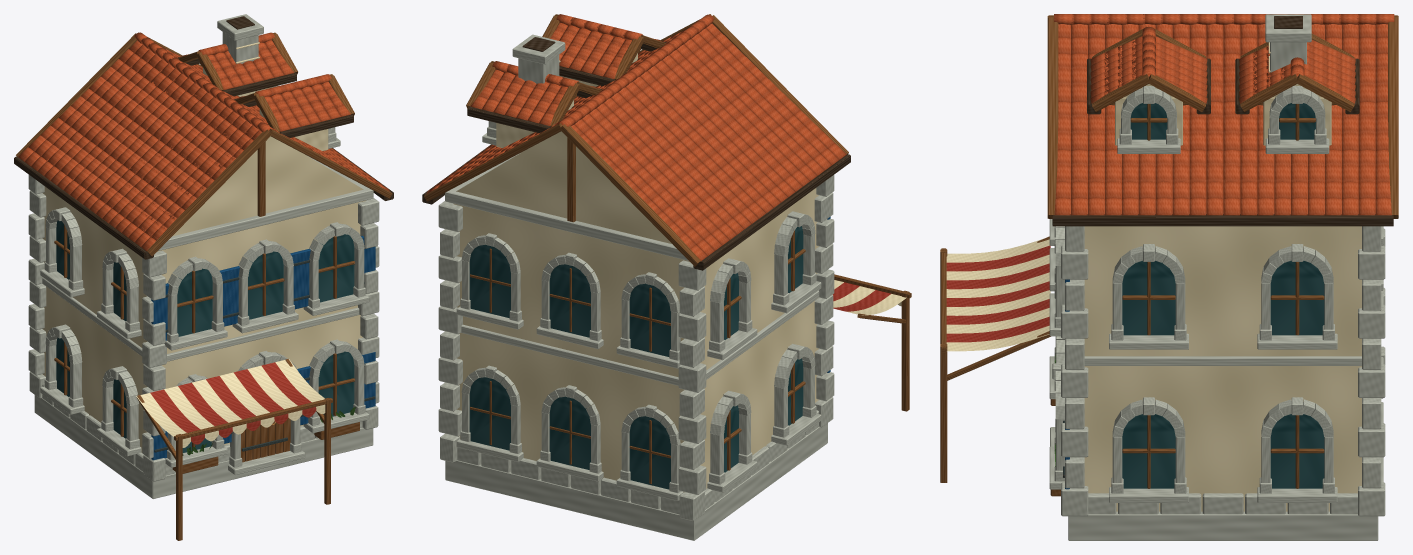
File: market_shop.glb
The picture shows the model from 3 angles, left to right: view 1: azimuth 30°, elevation 25°; view 2: azimuth 150°, elevation 25°; view 3: azimuth 270°, elevation 25°; orthographic projection. The views are drawn at different scales.
Parts seen in each view (by area): view 1: market_shop_Structure.001, market_shop_Roof.001, market_shop_Detail.001, market_shop_Joinery.001, market_shop_Glazing.001, market_shop_Cloth.001, market_shop_Metalwork.001; view 2: market_shop_Structure.001, market_shop_Roof.001, market_shop_Detail.001, market_shop_Glazing.001, market_shop_Joinery.001, market_shop_Cloth.001; view 3: market_shop_Structure.001, market_shop_Roof.001, market_shop_Detail.001, market_shop_Joinery.001, market_shop_Glazing.001, market_shop_Cloth.001.
Boxes of the visible parts, <box> form: market_shop_Structure.001: <box>28,14,379,498</box>; market_shop_Roof.001: <box>18,32,389,250</box>; market_shop_Detail.001: <box>40,85,369,474</box>; market_shop_Joinery.001: <box>14,32,393,540</box>; market_shop_Glazing.001: <box>56,220,354,452</box>; market_shop_Cloth.001: <box>136,359,325,447</box>; market_shop_Metalwork.001: <box>154,247,375,452</box>; market_shop_Structure.001: <box>438,34,834,540</box>; market_shop_Roof.001: <box>426,14,846,260</box>; market_shop_Detail.001: <box>456,75,821,500</box>; market_shop_Glazing.001: <box>469,226,803,489</box>; market_shop_Joinery.001: <box>422,14,911,484</box>; market_shop_Cloth.001: <box>833,280,906,315</box>; market_shop_Structure.001: <box>1061,14,1385,540</box>; market_shop_Roof.001: <box>1054,14,1394,215</box>; market_shop_Detail.001: <box>1049,86,1383,502</box>; market_shop_Joinery.001: <box>940,15,1398,496</box>; market_shop_Glazing.001: <box>1122,103,1324,488</box>; market_shop_Cloth.001: <box>946,239,1050,351</box>.
Size of the model in its own units: 6.62 by 9.08 by 7.72.
4 materials, 4 textured.
